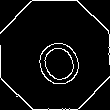O_NW: (25, 23, 85, 87)
